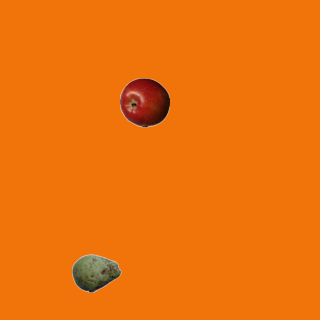Apple Braeburn: (119, 77, 169, 127)
Pear Stone: (71, 248, 121, 298)
